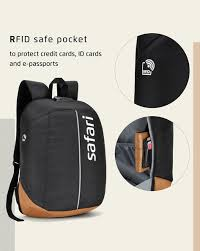backpack: (5, 77, 106, 221)
